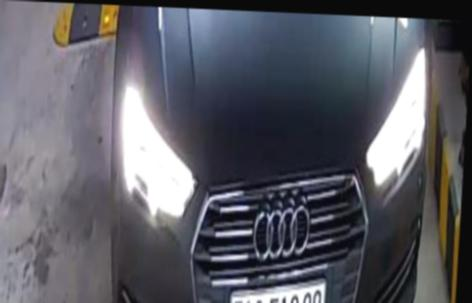License_Plate: (226, 274, 324, 303)
